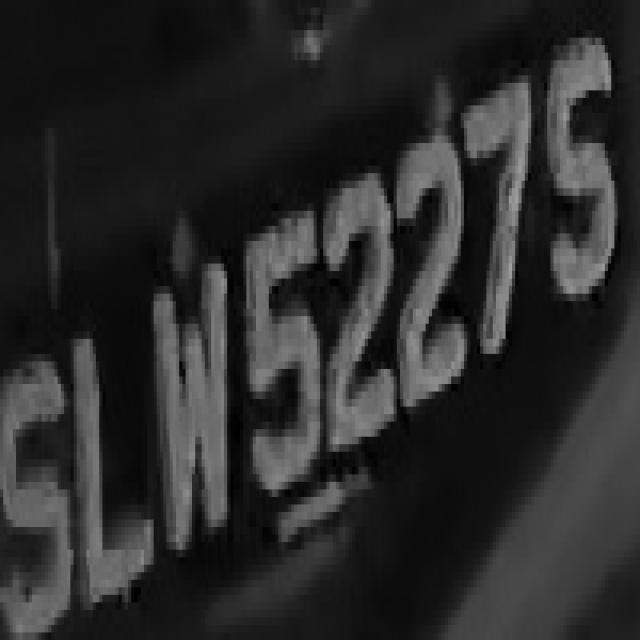2: (317, 173, 400, 505), (390, 128, 470, 444)
5: (240, 188, 326, 520)
7: (467, 68, 541, 384)
L: (70, 294, 157, 625)
S: (544, 38, 627, 331)
W: (150, 271, 240, 595)
